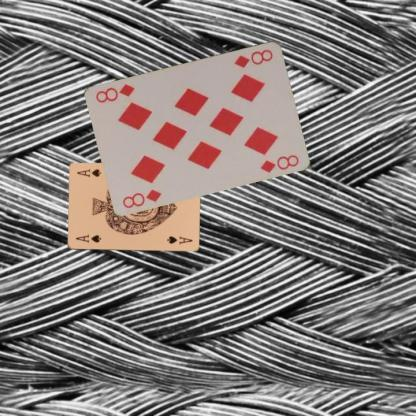8d: (120, 186, 163, 209), (232, 46, 274, 69)
As: (74, 233, 102, 244)
